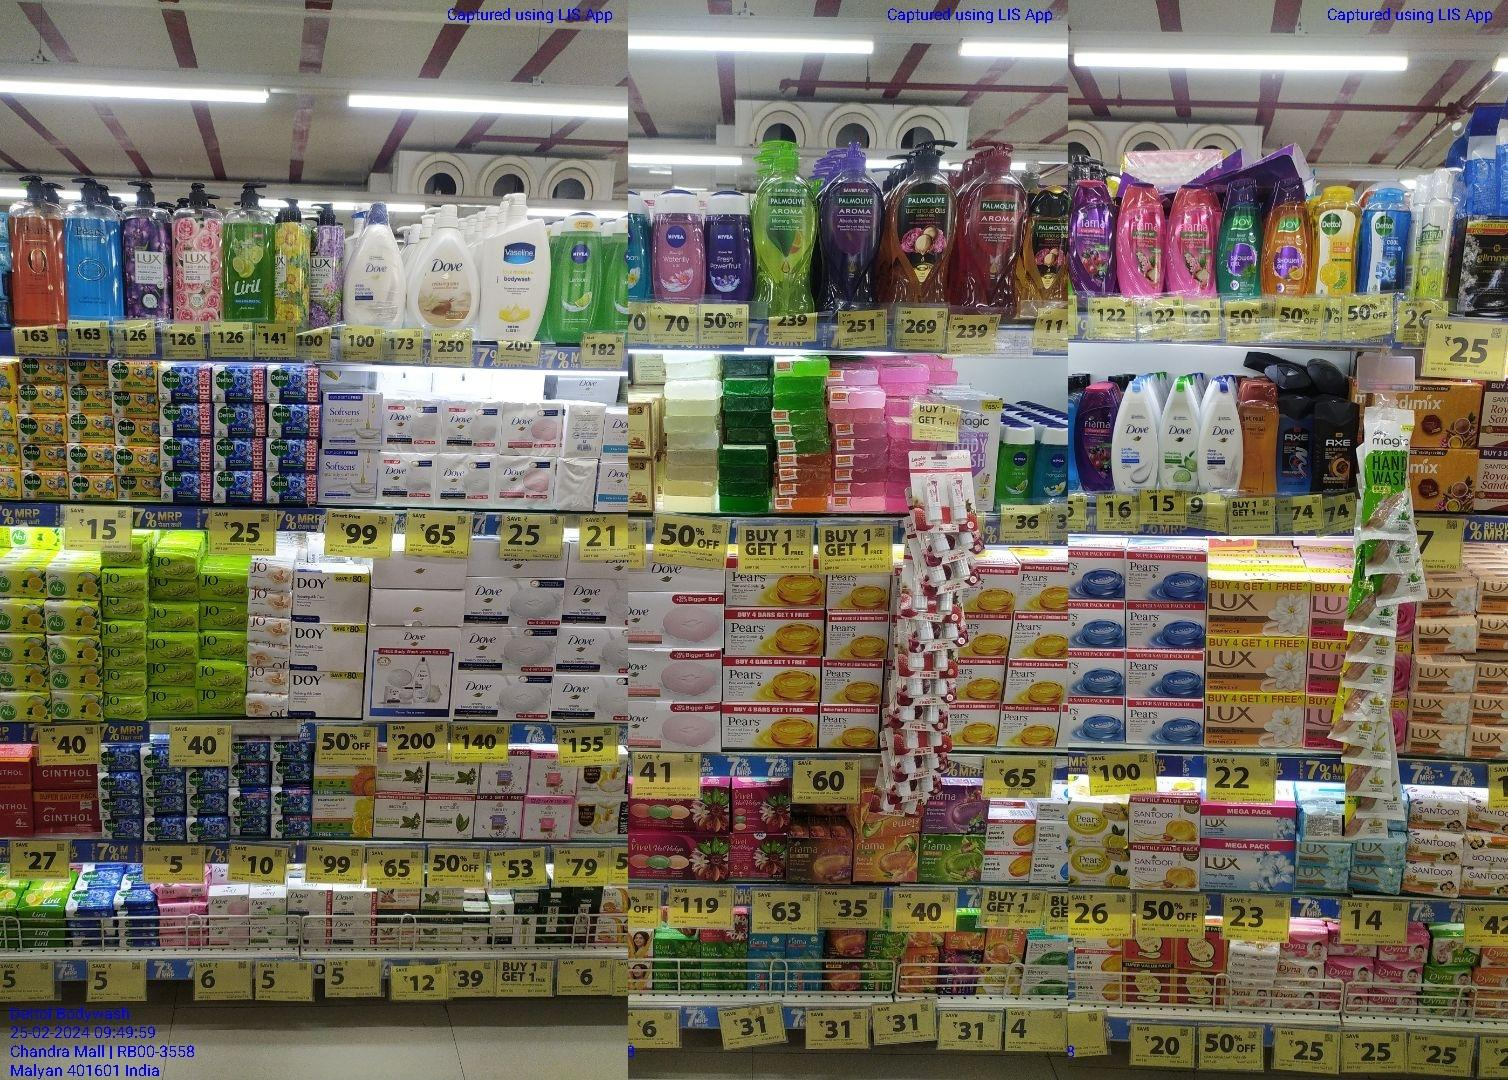Dettol_Bodywash_Cool: (1368, 188, 1413, 295)
Dettol_Bodywash_Refresh: (1312, 187, 1356, 292)
Dove_Deep_Moisture_Body_Wash_250ML: (1202, 380, 1241, 492)
Dove_Gentle_Exfoliating_Body_Wash_250ML: (1111, 382, 1157, 489)
Dove_Refreshing_Body_Wash_250ML: (1161, 380, 1198, 492)
Fiama_Shower_Gel_Patchouli_and_Macadamia_250ML: (1170, 182, 1216, 293), (1121, 182, 1163, 295)
Get_Real_Shower_Gel_Moisturising_Glycerin_300ML: (1244, 382, 1278, 496)
Joy_Shower_Gel_Mandarin_and_Lemongrass_250ML: (1264, 179, 1309, 295)
Joy_Shower_Gel_Mint_and_Eucalyptus_250ML: (1220, 181, 1264, 298)
Nivea_Shower_Gel_Lemon_and_Oil_250ML: (554, 213, 604, 342)
Nivea_Shower_Gel_Waterlily_and_Oil_250ML: (656, 191, 704, 304)
